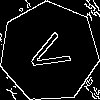V: (24, 26, 80, 78)
